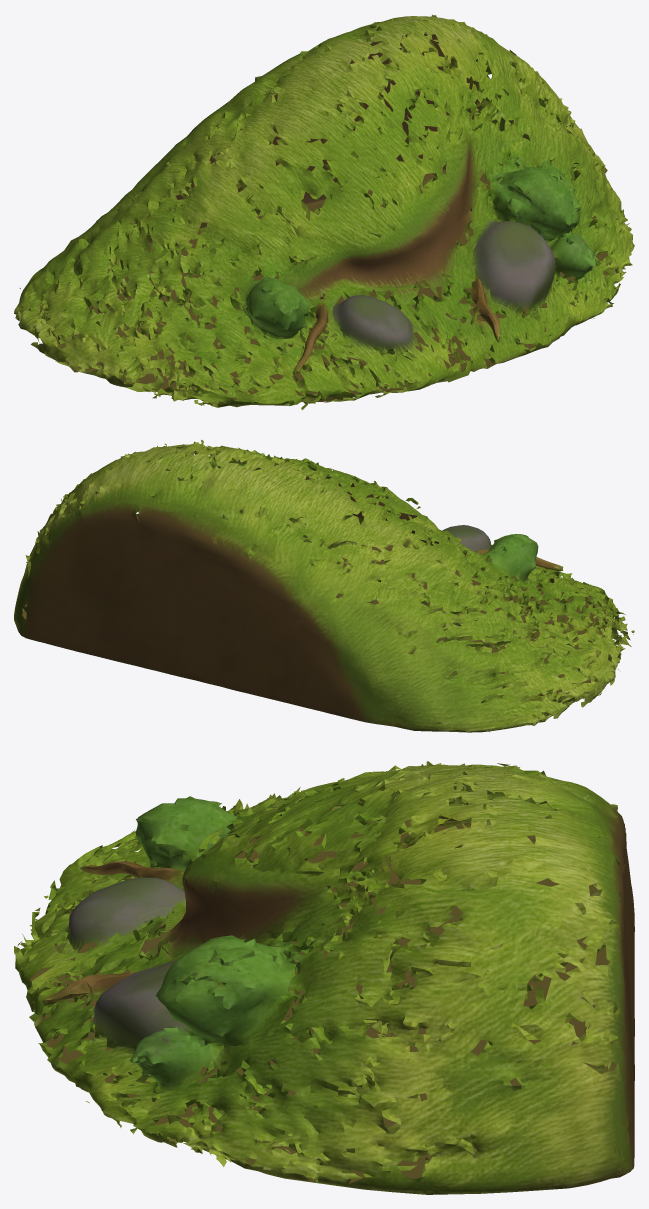
The model's file is hill_flank_slope_tile.glb.
3 views of the same model, one above another, from view 1: azimuth 30°, elevation 25°; view 2: azimuth 150°, elevation 25°; view 3: azimuth 270°, elevation 25° (orthographic). The views are drawn at different scales.
Visible parts, largest first — view 1: Mesh_0; view 2: Mesh_0; view 3: Mesh_0.
Part boxes in pixels (bbox=[...]): Mesh_0: bbox=[14, 14, 634, 410]; Mesh_0: bbox=[14, 440, 634, 732]; Mesh_0: bbox=[14, 761, 634, 1194].
Bounding box in the file's own units: 30 × 10 × 20.
1 material, 1 textured.
